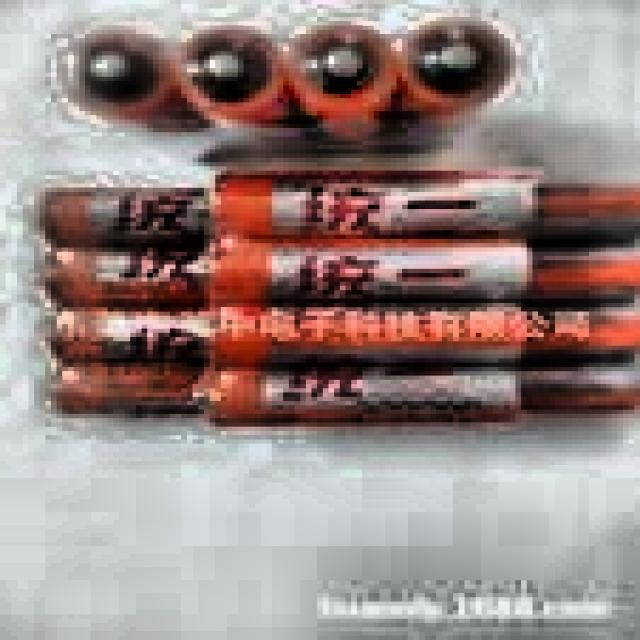Non-Valuable Waste - Batteries: (209, 173, 637, 423), (80, 21, 509, 128), (43, 190, 211, 411)
